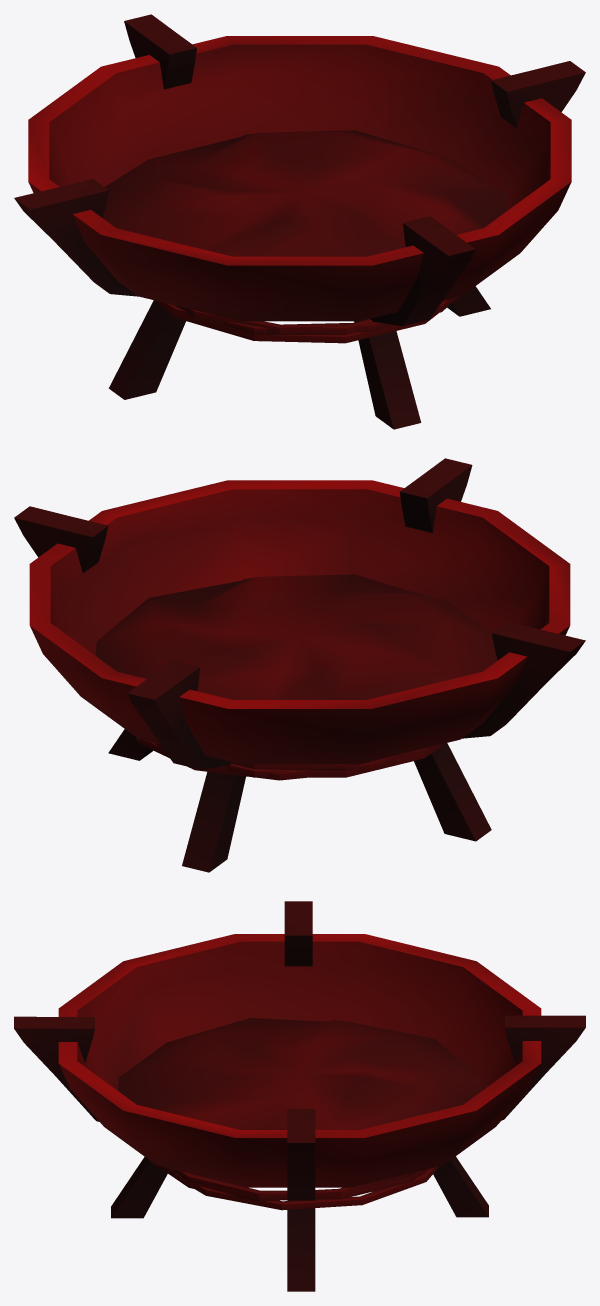
The model's file is BronzeFirepit.glb.
The picture shows the model from 3 angles, top to bottom: view 1: azimuth 30°, elevation 25°; view 2: azimuth 150°, elevation 25°; view 3: azimuth 270°, elevation 25°; orthographic projection. The views are drawn at different scales.
Visible parts, largest first — view 1: BronzeFirepit; view 2: BronzeFirepit; view 3: BronzeFirepit.
Part boxes in pixels (x1,y1,x2,y2): BronzeFirepit: (14,14,585,429); BronzeFirepit: (14,458,585,872); BronzeFirepit: (14,901,585,1291).
Size of the model in its own units: 8.3 by 3.04 by 8.3.
